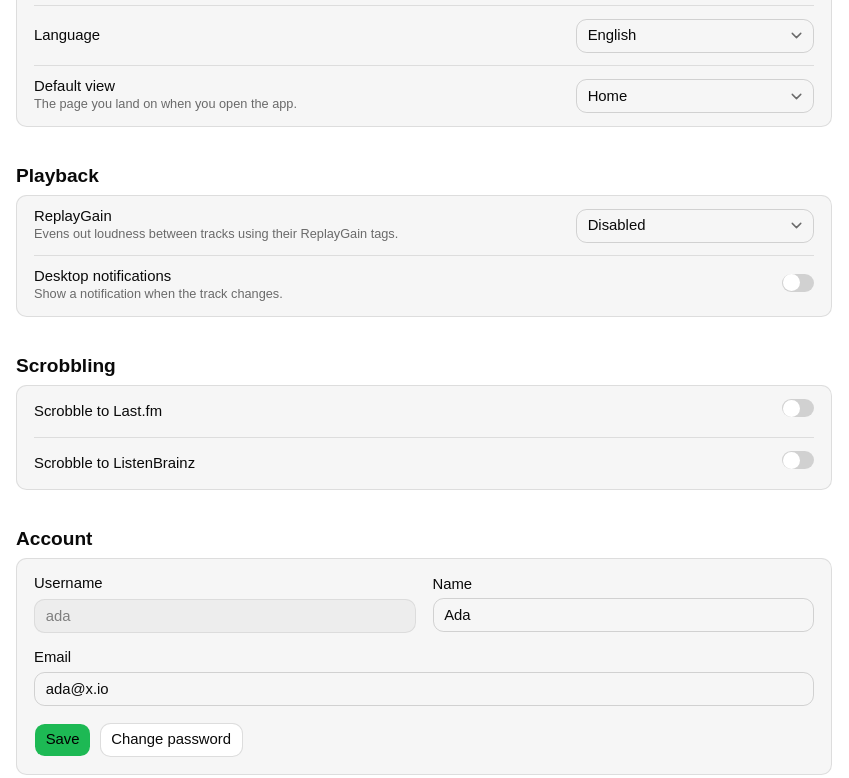
Test: PersonalPage › requires the current password to change it
(page scrolled)
Expected: the field labelled "Email" holds "ada@x.io", [34, 672, 814, 706]
Click the button "Change password".
click(171, 740)  # box [100, 723, 243, 757]
(page scrolled)
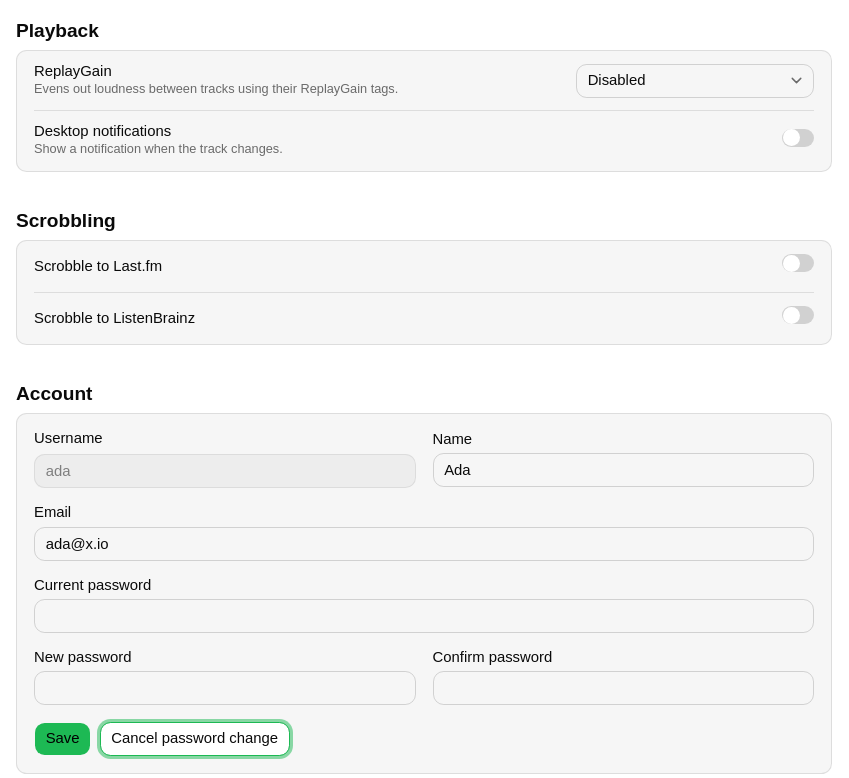
Click the button "Save".
click(63, 739)  # box [34, 722, 91, 756]
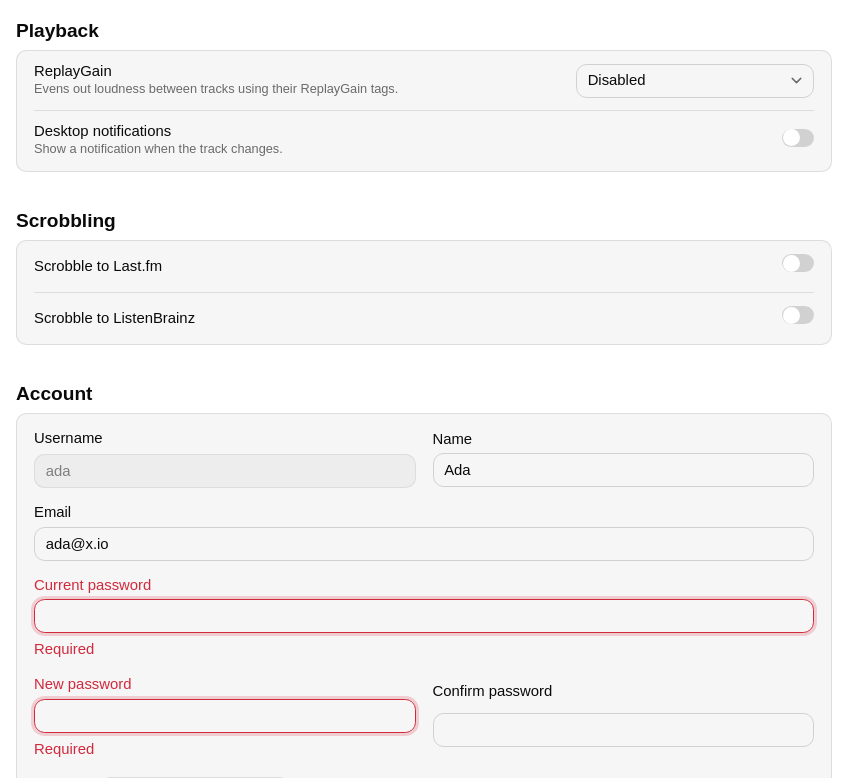
Expected: the text "Required" below "Current password" is shown, [34, 641, 94, 657]
